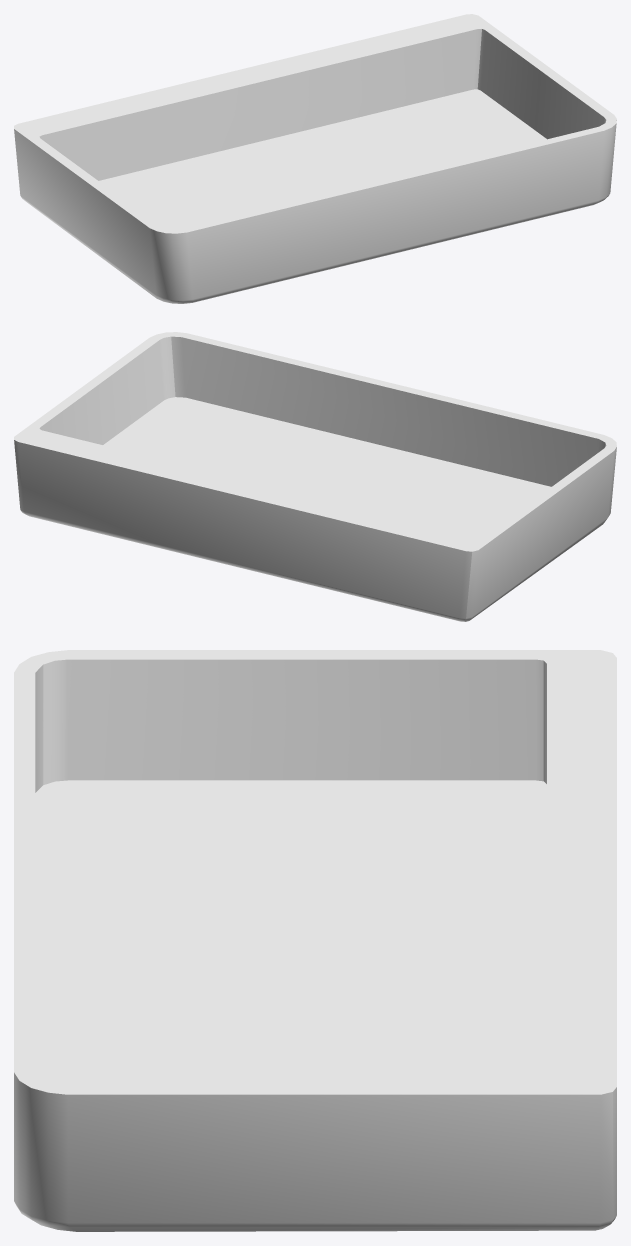
File: SM_Case_1.fbx
The picture shows the model from 3 angles, top to bottom: view 1: azimuth 30°, elevation 25°; view 2: azimuth 150°, elevation 25°; view 3: azimuth 270°, elevation 25°; orthographic projection. The views are drawn at different scales.
Visible parts, largest first — view 1: SM_Case_1; view 2: SM_Case_1; view 3: SM_Case_1.
Part boxes in pixels (<box>): SM_Case_1: <box>14,14,616,303</box>; SM_Case_1: <box>14,332,616,621</box>; SM_Case_1: <box>14,650,616,1231</box>.
Size of the model in its own units: 0.1963 by 0.03 by 0.1125.
Materials: 1 (1 with a texture image).
